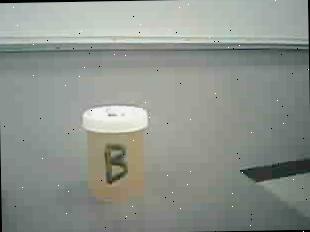Bottle B: (72, 97, 162, 212)
